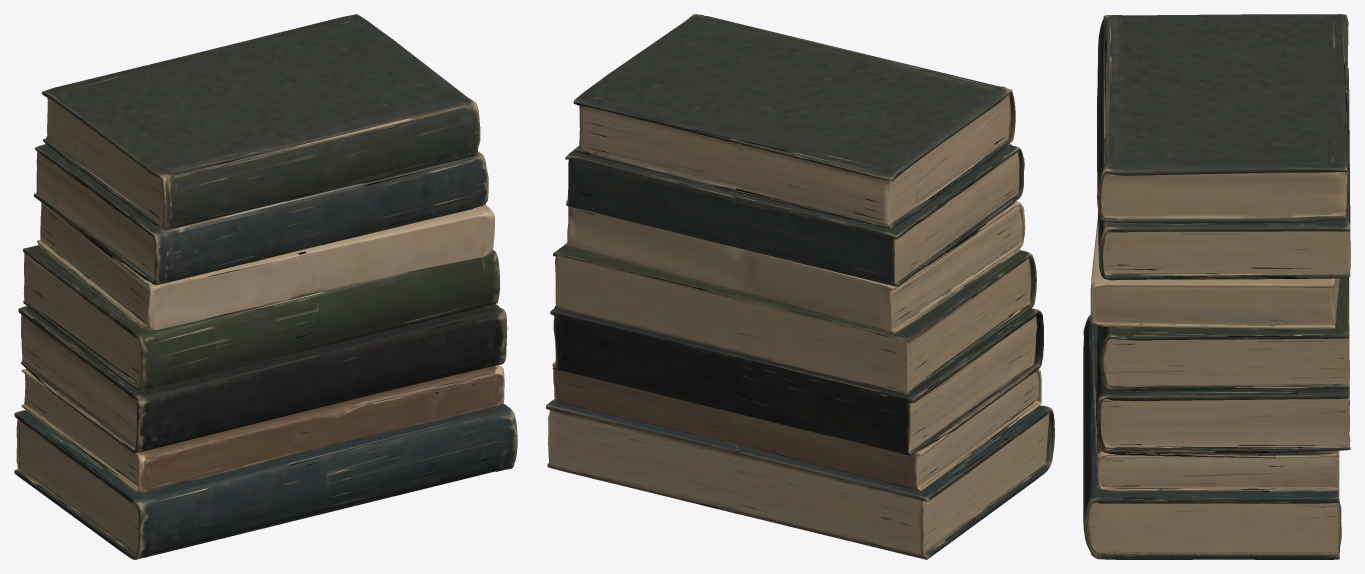
Rendered from desktop.glb.
3 renders of one model, left to right at view 1: azimuth 30°, elevation 25°; view 2: azimuth 150°, elevation 25°; view 3: azimuth 270°, elevation 25°, orthographic.
Visible parts, largest first — view 1: bookstack; view 2: bookstack; view 3: bookstack.
Part boxes in pixels (box(x1,y1,x2,y2)): bookstack: box(14, 14, 517, 559); bookstack: box(546, 14, 1054, 559); bookstack: box(1083, 14, 1350, 559).
Bounding box in the file's own units: 0.2641 × 0.25 × 0.1605.
Materials: 1 (1 with a texture image).
